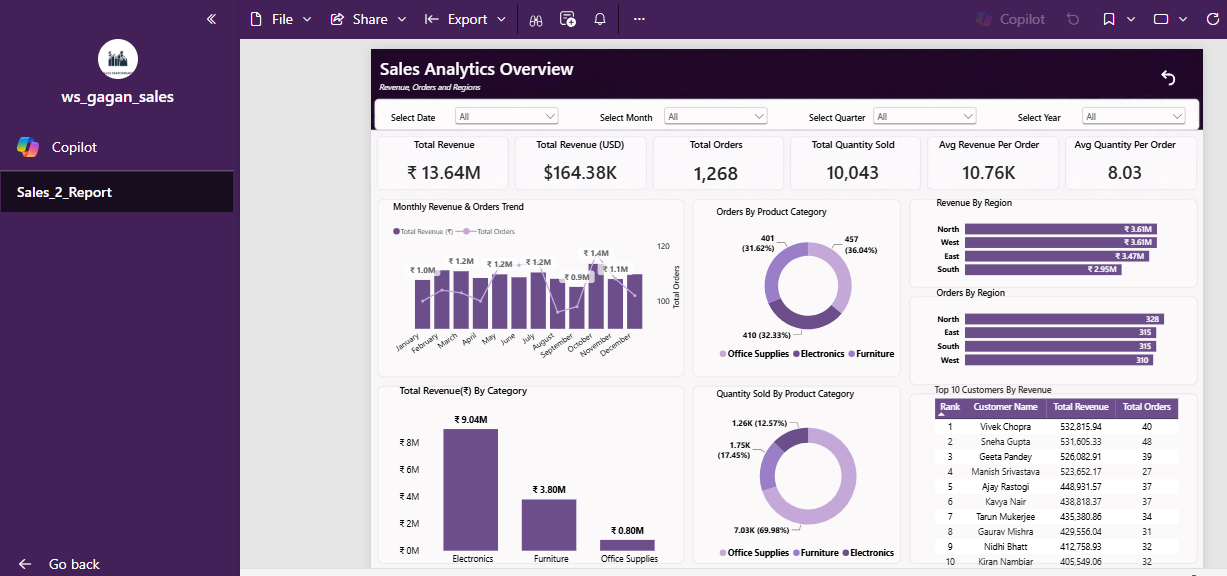

The page's visual inventory and layout, read from the dashboard file:
{"tool":"powerbi","page":{"name":"Sales Analytics Overview","canvas":[1280,810],"ordinal":0},"visuals":[{"type":"textbox","box":[352.9,85.4,92.5,37.5],"z":0},{"type":"textbox","box":[31.4,85.4,92.5,37.5],"z":1000},{"type":"textbox","box":[995.7,85.4,92.5,37.5],"z":2000},{"type":"textbox","box":[674.3,85.4,92.5,37.5],"z":3000},{"type":"textbox","box":[12.9,47.1,334.3,22.9],"z":4000},{"type":"slicer","fields":{"Values":["dim_date.month_name"]},"box":[445.7,85.4,168.6,37.1],"z":5000},{"type":"slicer","fields":{"Values":["dim_date.full_date"]},"box":[124.3,85.4,168.6,37.1],"z":6000},{"type":"slicer","fields":{"Values":["dim_date.year"]},"box":[1088.6,85.4,168.6,37.1],"z":7000},{"type":"slicer","fields":{"Values":["dim_date.quarter"]},"box":[767.1,85.4,168.6,37.1],"z":8000},{"type":"actionButton","box":[1185.7,21.4,81.4,45.7],"z":9000},{"type":"textbox","box":[13.8,11.2,335,41.2],"z":10000},{"type":"cardVisual","title":"Total Orders","fields":{"Data":["fact_sales.Total Orders"]},"box":[434.3,136.3,194.3,70],"z":11000},{"type":"cardVisual","title":"Total Revenue","fields":{"Data":["fact_sales.Total Revenue"]},"box":[14.6,136.3,194.3,70],"z":12000},{"type":"cardVisual","title":"Total Revenue (USD)","fields":{"Data":["fact_sales.Total Revenue USD"]},"box":[224.5,136.3,194.3,70],"z":13000},{"type":"cardVisual","title":"Total Quantity Sold","fields":{"Data":["fact_sales.Total Quantity Sold"]},"box":[644.1,136.3,194,70],"z":14000},{"type":"cardVisual","title":"Avg Revenue Per Order","fields":{"Data":["fact_sales.Avg Order Value"]},"box":[853.7,136.3,194,70],"z":15000},{"type":"cardVisual","title":"Avg Quantity Per Order","fields":{"Data":["fact_sales.Avg Quantity Per Order"]},"box":[1063.2,136.3,194,70],"z":16000},{"type":"clusteredBarChart","title":"Revenue By Region","fields":{"Category":["dim_region.region"],"Y":["fact_sales.Total Revenue"]},"box":[854.3,225.4,402.9,134],"z":17000},{"type":"clusteredBarChart","title":"Orders By Region","fields":{"Category":["dim_region.region"],"Y":["fact_sales.Total Orders"]},"box":[854.3,362.9,402.9,134.3],"z":18000},{"type":"donutChart","title":"Orders By Product Category","fields":{"Category":["dim_product.product_category"],"Y":["fact_sales.Total Orders"]},"box":[515.7,227.1,314.3,271.4],"z":19000},{"type":"donutChart","title":"Quantity Sold By Product Category","fields":{"Category":["dim_product.product_category"],"Y":["fact_sales.Total Quantity Sold"]},"box":[515.7,507.1,314.3,297.1],"z":20000},{"type":"tableEx","title":"Top 10 Customers By Revenue","fields":{"Values":["fact_sales.Customer Rank","dim_customer.customer_name","fact_sales.Total Revenue","fact_sales.Total Orders"]},"box":[854.3,507.1,402.9,301.4],"z":21000},{"type":"columnChart","title":"Total Revenue(₹) By Category","fields":{"Category":["dim_product.product_category"],"Y":["fact_sales.Total Revenue"]},"box":[31.4,507.1,452.9,297.1],"z":22000},{"type":"lineStackedColumnComboChart","title":"Monthly Revenue & Orders Trend","fields":{"Category":["dim_date.month_name"],"Y":["fact_sales.Total Revenue"],"Y2":["fact_sales.Total Orders"]},"box":[31.4,227.1,452.9,271.4],"z":23000}]}

Visuals, with their boxes on the page's 1280x810 design canvas (x1, y1, x2, y2). These are canvas units, not pixel positions in the 1227x576 screenshot, which may show the page scaled, cropped or inside an application window:
textbox: locate(353, 85, 445, 123)
textbox: locate(31, 85, 124, 123)
textbox: locate(996, 85, 1088, 123)
textbox: locate(674, 85, 767, 123)
textbox: locate(13, 47, 347, 70)
slicer - dim_date.month_name: locate(446, 85, 614, 122)
slicer - dim_date.full_date: locate(124, 85, 293, 122)
slicer - dim_date.year: locate(1089, 85, 1257, 122)
slicer - dim_date.quarter: locate(767, 85, 936, 122)
actionButton: locate(1186, 21, 1267, 67)
textbox: locate(14, 11, 349, 52)
"Total Orders" cardVisual: locate(434, 136, 629, 206)
"Total Revenue" cardVisual: locate(15, 136, 209, 206)
"Total Revenue (USD)" cardVisual: locate(224, 136, 419, 206)
"Total Quantity Sold" cardVisual: locate(644, 136, 838, 206)
"Avg Revenue Per Order" cardVisual: locate(854, 136, 1048, 206)
"Avg Quantity Per Order" cardVisual: locate(1063, 136, 1257, 206)
"Revenue By Region" clusteredBarChart: locate(854, 225, 1257, 359)
"Orders By Region" clusteredBarChart: locate(854, 363, 1257, 497)
"Orders By Product Category" donutChart: locate(516, 227, 830, 498)
"Quantity Sold By Product Category" donutChart: locate(516, 507, 830, 804)
"Top 10 Customers By Revenue" tableEx: locate(854, 507, 1257, 808)
"Total Revenue(₹) By Category" columnChart: locate(31, 507, 484, 804)
"Monthly Revenue & Orders Trend" lineStackedColumnComboChart: locate(31, 227, 484, 498)
